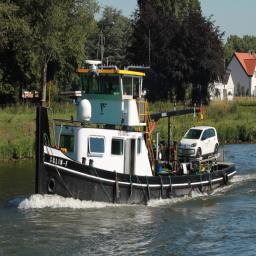tugboat: (34, 29, 239, 214)
